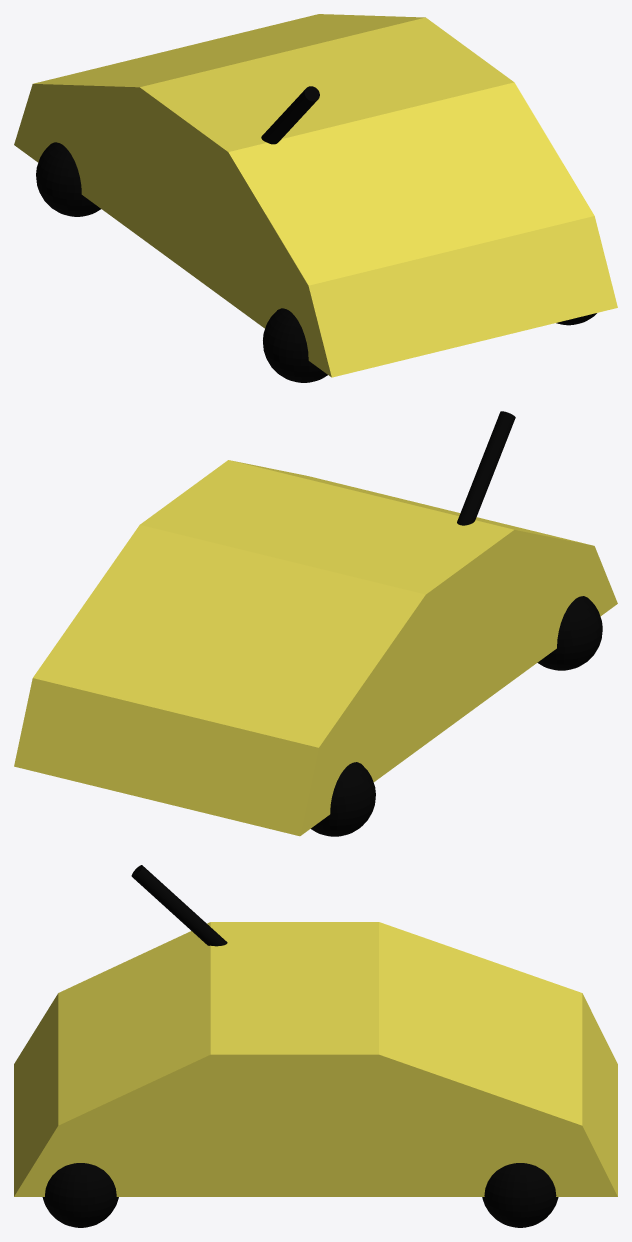
File: Car.fbx
The picture shows the model from 3 angles, top to bottom: view 1: azimuth 30°, elevation 25°; view 2: azimuth 150°, elevation 25°; view 3: azimuth 270°, elevation 25°; orthographic projection. The views are drawn at different scales.
Parts seen in each view (by area): view 1: Car; view 2: Car; view 3: Car.
Boxes of the visible parts, x1=… form: Car: x1=14, y1=14, x2=617, y2=382; Car: x1=14, y1=411, x2=617, y2=836; Car: x1=14, y1=865, x2=617, y2=1227.
Size of the model in its own units: 230 by 178 by 385.
